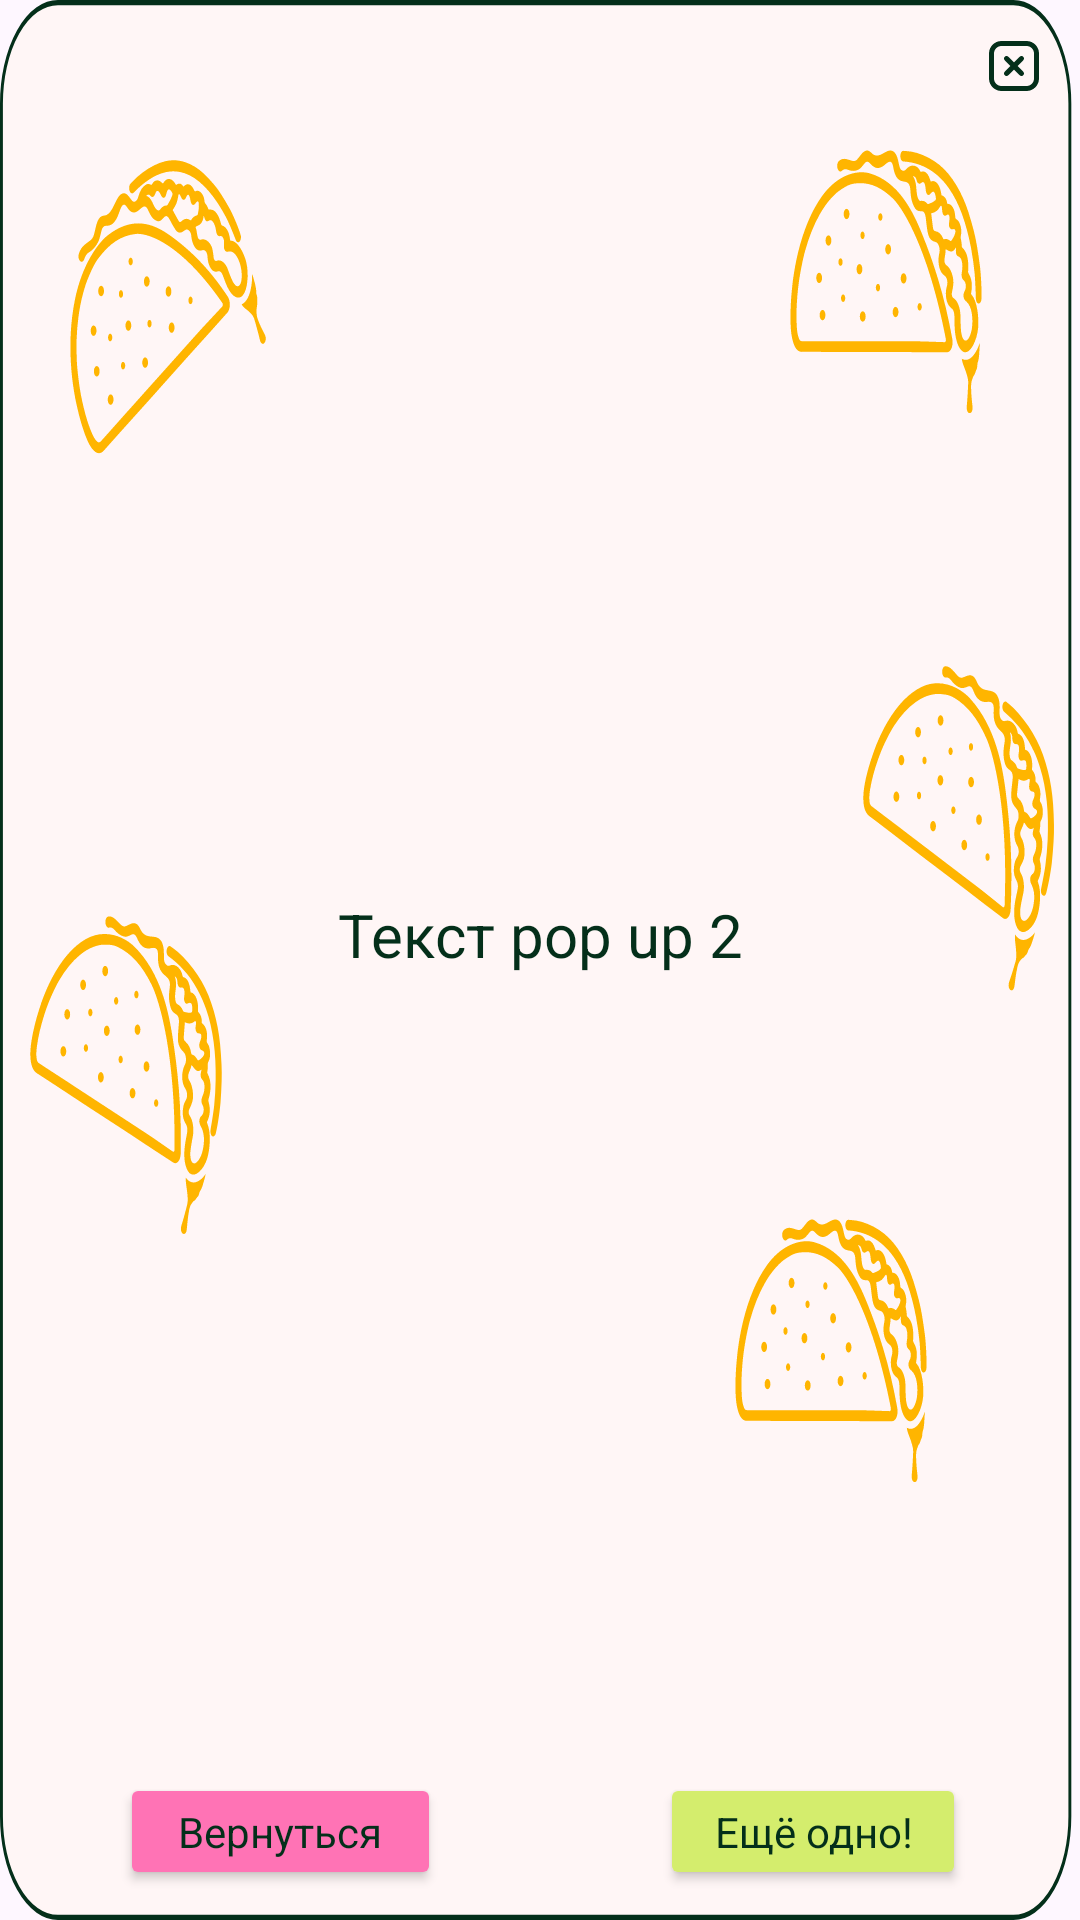

Screen size 1080w x 1920h. Icon name, then its box in pixels as (left=x1, top=y1, right=x2, bottom=y2):
close: (left=989, top=41, right=1039, bottom=91)
